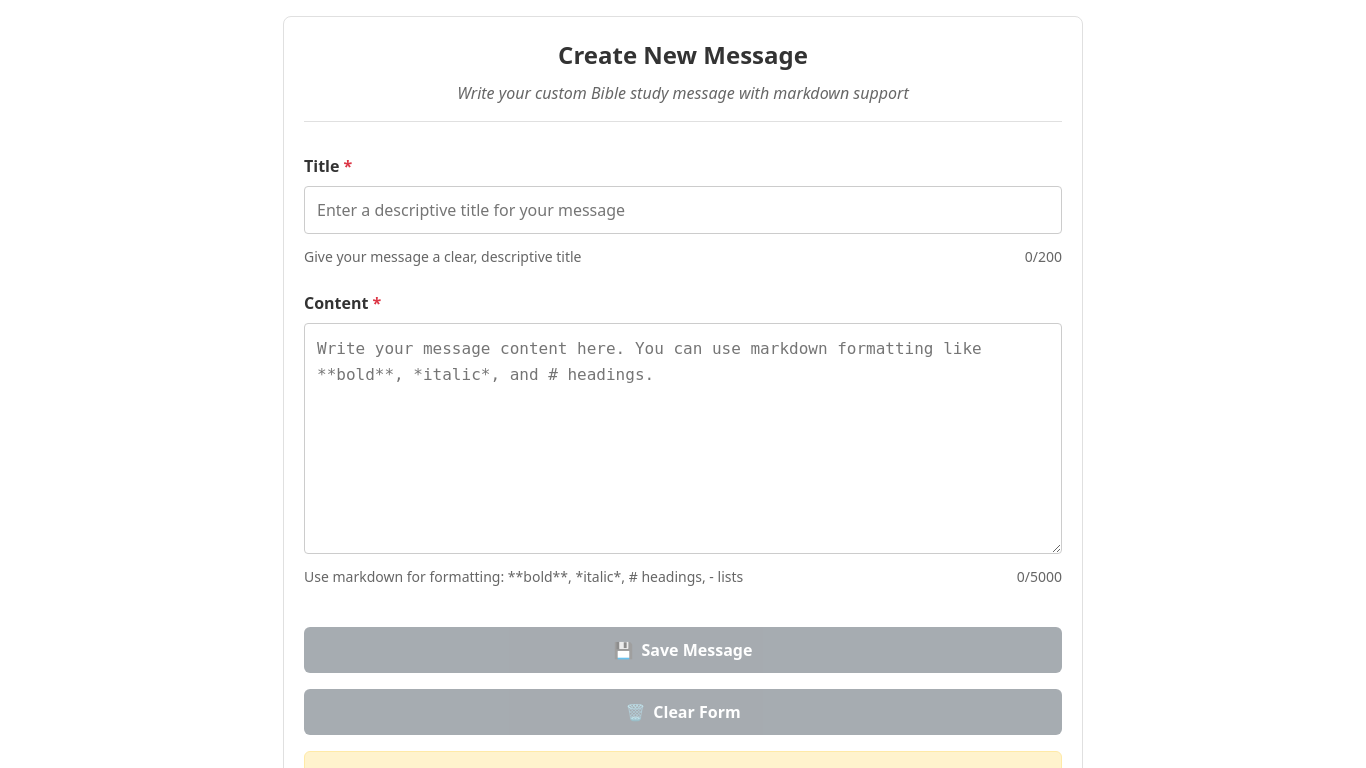
Scenario: MessageEditor Component › Clear Form Functionality › shows confirmation modal when clearing non-empty form
Type "Test" into the field labelled "Title *" at (683, 210), box [304,186,1062,234]
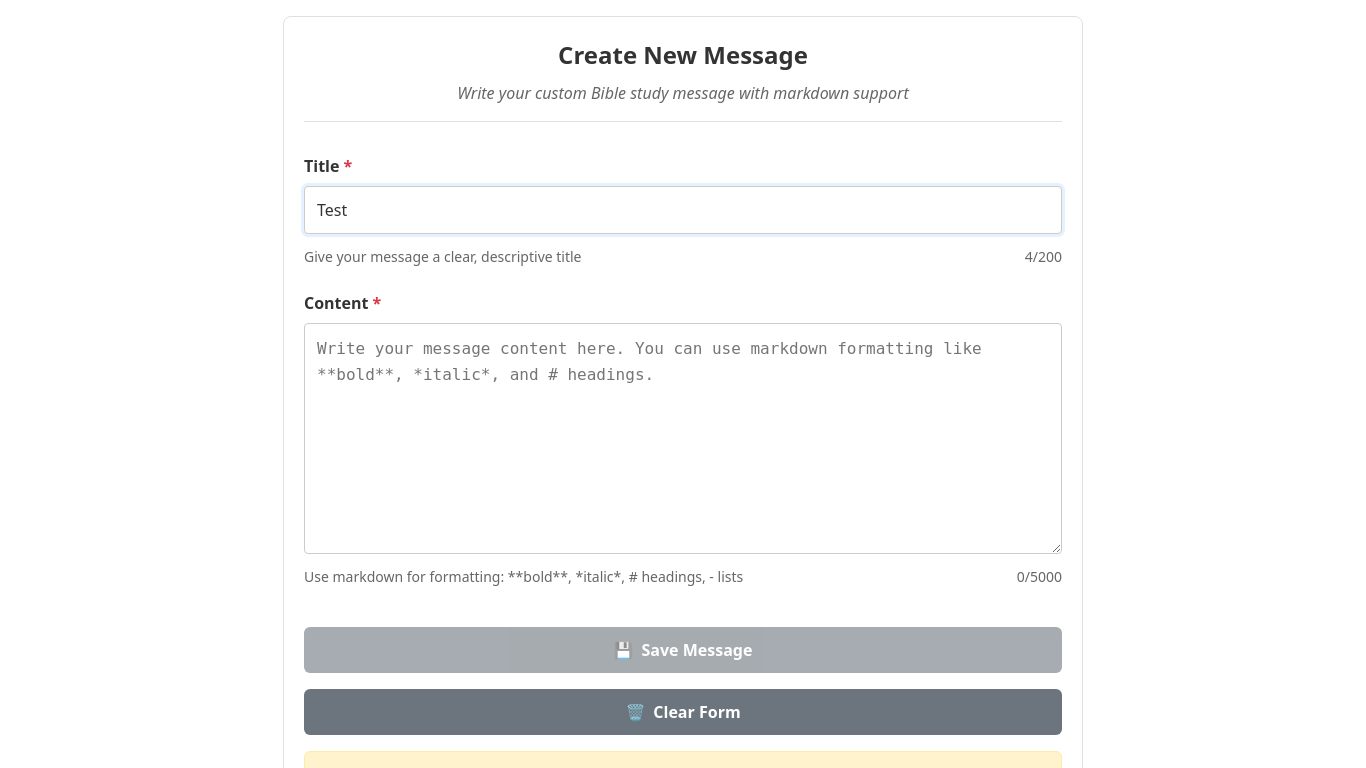
Click the button "🗑️ Clear Form" at (683, 712), box [304,689,1062,735]
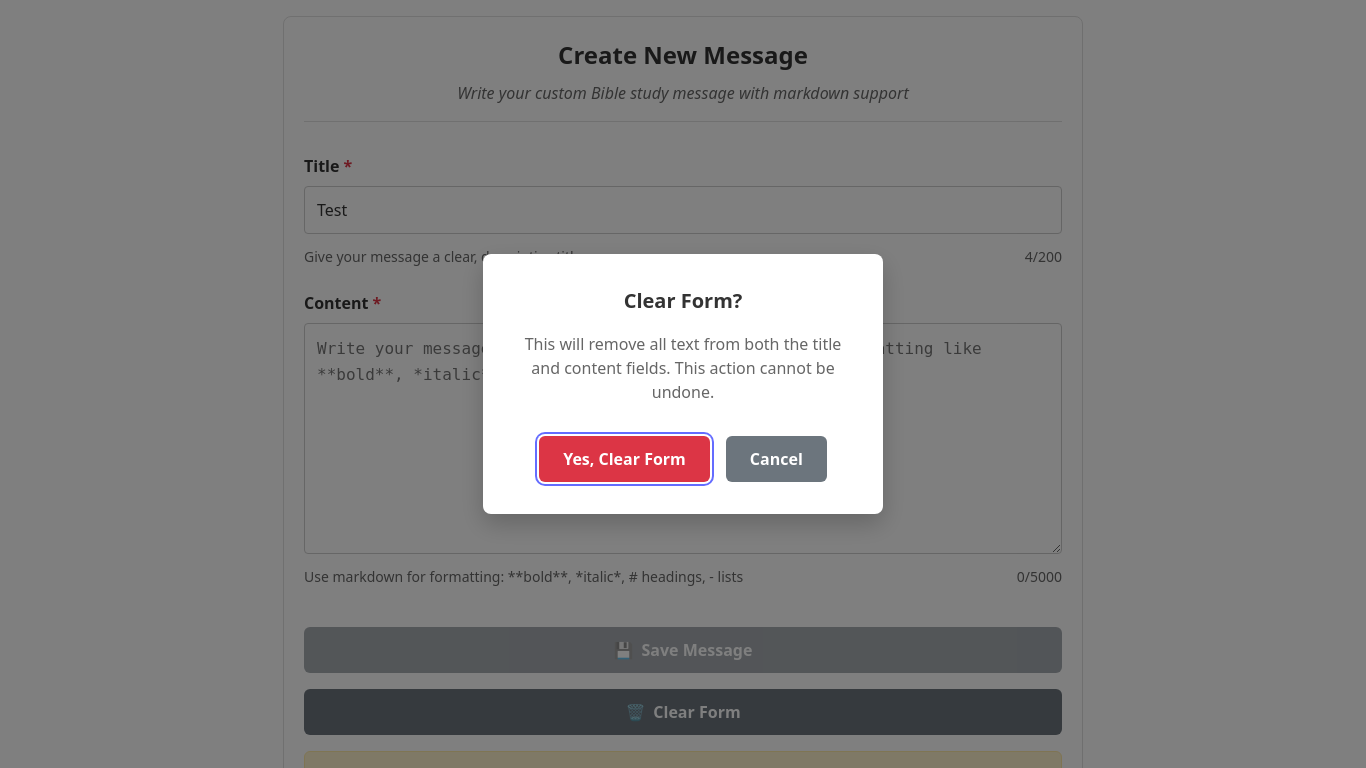
Now the dialog is shown
Now the heading "Clear Form?" is shown, box [624,287,742,314]
